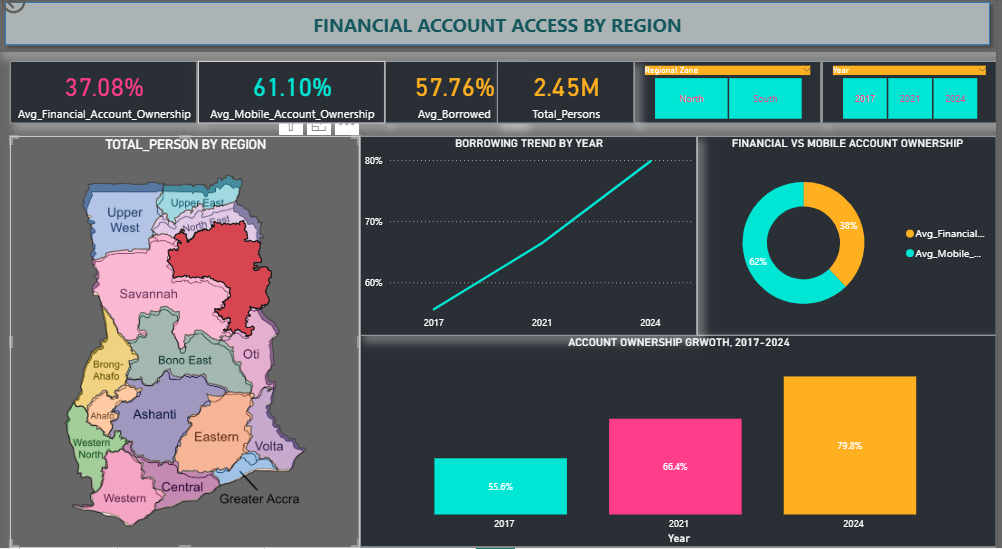

This screenshot's page, from the dashboard's own definition file:
{"tool":"powerbi","page":{"name":"ACCESS BY REGION","canvas":[1280,720],"ordinal":1},"visuals":[{"type":"image","box":[48,240,384,464],"z":0},{"type":"shape","box":[0,11.7,1280.5,73.2],"z":1000},{"type":"shapeMap","title":"TOTAL_PERSON BY REGION","fields":{"Category":["financial_inclusion db interest_rate.Region"],"Value":["financial_inclusion db interest_rate.Total_Mobile_Users"],"Series":["financial_inclusion db interest_rate.Region"]},"box":[16,192,448,528],"z":2000},{"type":"actionButton","box":[0,0,100,40],"z":3000},{"type":"card","fields":{"Values":["financial_inclusion db mobile_money.Avg_Financial_Account_Ownership"]},"box":[16,96,240,80],"z":4000},{"type":"card","fields":{"Values":["financial_inclusion db mobile_money.Avg_Mobile_Account_Ownership"]},"box":[256,96,240,80],"z":5000},{"type":"donutChart","title":"FINANCIAL VS MOBILE ACCOUNT OWNERSHIP","fields":{"Y":["financial_inclusion db mobile_money.Avg_Financial_Account_Ownership","financial_inclusion db mobile_money.Avg_Mobile_Account_Ownership"]},"box":[896,192,384,256],"z":6000},{"type":"columnChart","title":"ACCOUNT OWNERSHIP GRWOTH, 2017-2024","fields":{"Category":["financial_inclusion db mobile_money.Year"],"Y":["Sum(financial_inclusion db mobile_money.Account Owner(%))"]},"box":[464,432,816,288],"z":7000},{"type":"slicer","fields":{"Values":["financial_inclusion db interest_rate.Regional Zone"]},"box":[816,96,240,80],"z":8000},{"type":"slicer","fields":{"Values":["financial_inclusion db mobile_money.Year"]},"box":[1056,96,224,80],"z":9000},{"type":"card","fields":{"Values":["financial_inclusion db mobile_money.Avg_Borrowed"]},"box":[496,96,176,80],"z":10000},{"type":"lineChart","title":"BORROWING TREND BY YEAR","fields":{"Category":["financial_inclusion db mobile_money.Year"],"Y":["Avg(financial_inclusion db mobile_money.Account Owner(%))"]},"box":[464,192,432,256],"z":11000},{"type":"card","fields":{"Values":["financial_inclusion db interest_rate.Total_Persons"]},"box":[640,96,176,80],"z":12000}]}

Visuals, with their boxes in screenshot pixels (x1, y1, x2, y2), scaled from the page's 1280x720 canvas onto the 1002x549 screenshot:
image: (left=38, top=183, right=338, bottom=537)
shape: (left=0, top=9, right=1001, bottom=65)
"TOTAL_PERSON BY REGION" shapeMap: (left=13, top=146, right=363, bottom=548)
actionButton: (left=0, top=0, right=78, bottom=30)
card - financial_inclusion db mobile_money.Avg_Financial_Account_Ownership: (left=13, top=73, right=200, bottom=134)
card - financial_inclusion db mobile_money.Avg_Mobile_Account_Ownership: (left=200, top=73, right=388, bottom=134)
"FINANCIAL VS MOBILE ACCOUNT OWNERSHIP" donutChart: (left=701, top=146, right=1001, bottom=342)
"ACCOUNT OWNERSHIP GRWOTH, 2017-2024" columnChart: (left=363, top=329, right=1001, bottom=548)
slicer - financial_inclusion db interest_rate.Regional Zone: (left=639, top=73, right=827, bottom=134)
slicer - financial_inclusion db mobile_money.Year: (left=827, top=73, right=1001, bottom=134)
card - financial_inclusion db mobile_money.Avg_Borrowed: (left=388, top=73, right=526, bottom=134)
"BORROWING TREND BY YEAR" lineChart: (left=363, top=146, right=701, bottom=342)
card - financial_inclusion db interest_rate.Total_Persons: (left=501, top=73, right=639, bottom=134)
